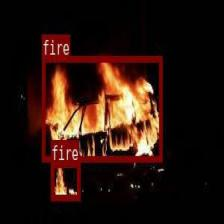fire: (41, 55, 162, 161), (50, 160, 80, 200)
